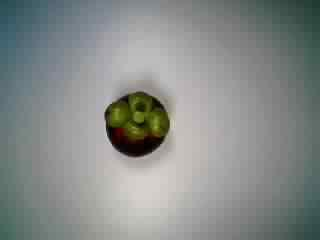mangosteen: (100, 87, 174, 159)
